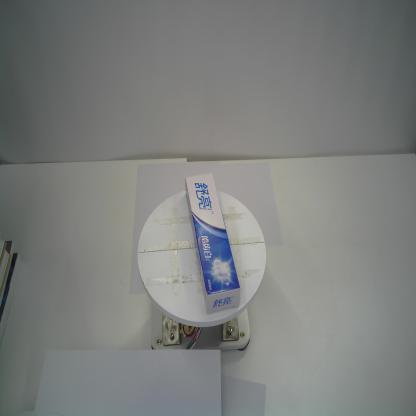Personal Hygiene: (186, 171, 240, 315)
